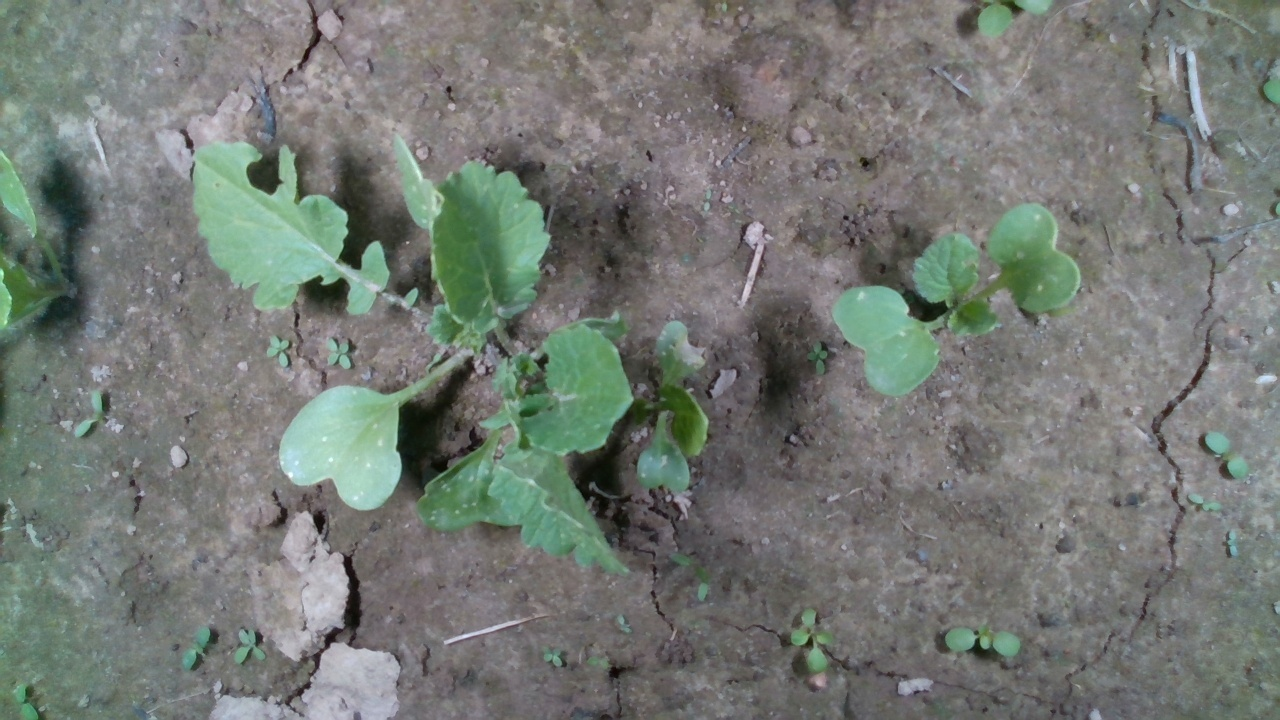weed: (787, 605, 836, 676), (943, 622, 1023, 659), (1203, 428, 1251, 480), (71, 385, 106, 441), (180, 625, 212, 671), (233, 625, 266, 665), (323, 335, 354, 372), (262, 333, 292, 369), (805, 338, 830, 377), (1185, 491, 1225, 512), (538, 642, 564, 670), (1223, 527, 1241, 559)
